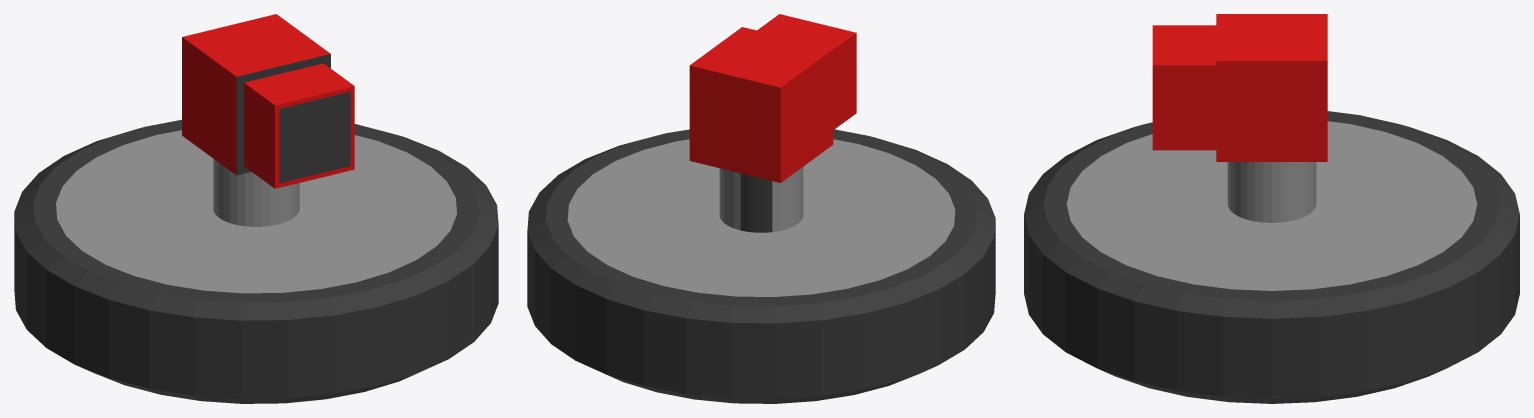
File: robot.fbx
3 renders of one model, left to right at view 1: azimuth 30°, elevation 25°; view 2: azimuth 150°, elevation 25°; view 3: azimuth 270°, elevation 25°, orthographic. The views are drawn at different scales.
Parts seen in each view (by area): view 1: Cylinder; view 2: Cylinder; view 3: Cylinder.
Boxes of the visible parts, <box> form: Cylinder: <box>14,14,498,403</box>; Cylinder: <box>527,14,995,403</box>; Cylinder: <box>1024,14,1519,403</box>.
Size of the model in its own units: 200 by 121 by 200.
